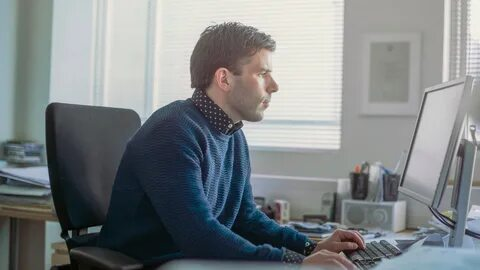awake: (97, 19, 283, 266)
